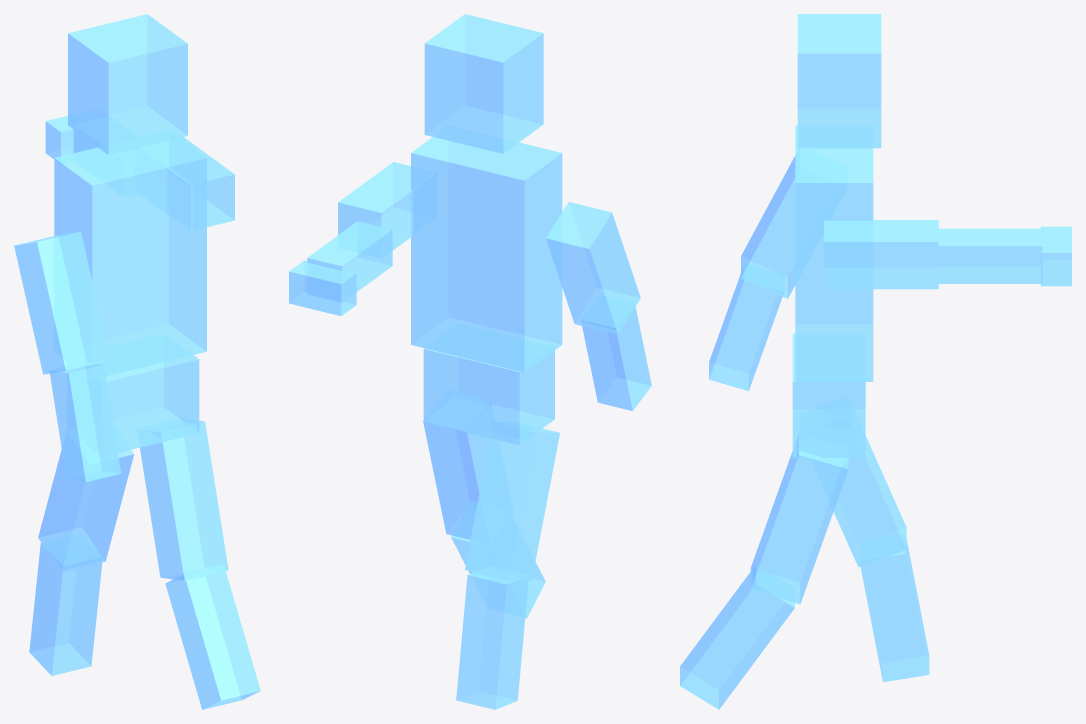
Rendered from ghost_reacher.glb.
3 renders of one model, left to right at view 1: azimuth 30°, elevation 25°; view 2: azimuth 150°, elevation 25°; view 3: azimuth 270°, elevation 25°, orthographic. The views are drawn at different scales.
Visible parts, largest first — view 1: Ghost_Reacher; view 2: Ghost_Reacher; view 3: Ghost_Reacher.
Part boxes in pixels (bbox=[...]): Ghost_Reacher: bbox=[14, 14, 260, 709]; Ghost_Reacher: bbox=[289, 14, 651, 709]; Ghost_Reacher: bbox=[680, 14, 1071, 709].
Size of the model in its own units: 0.95 by 2.77 by 1.5.
